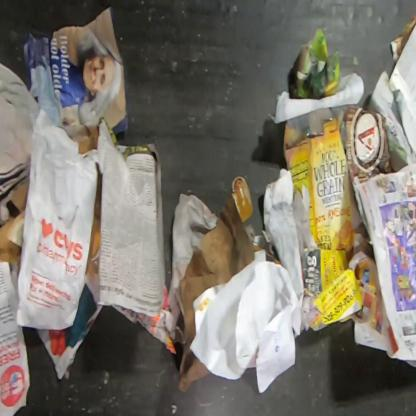cardboard: (282, 107, 365, 251), (334, 104, 395, 182), (231, 177, 254, 221)
